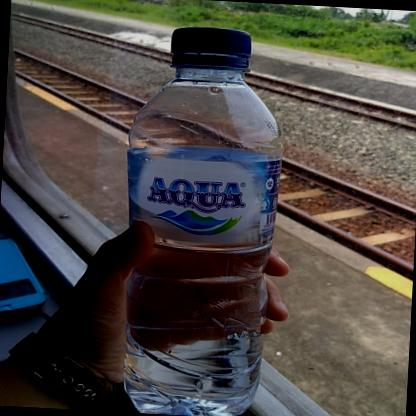plastic_bottles: (112, 25, 282, 416)
